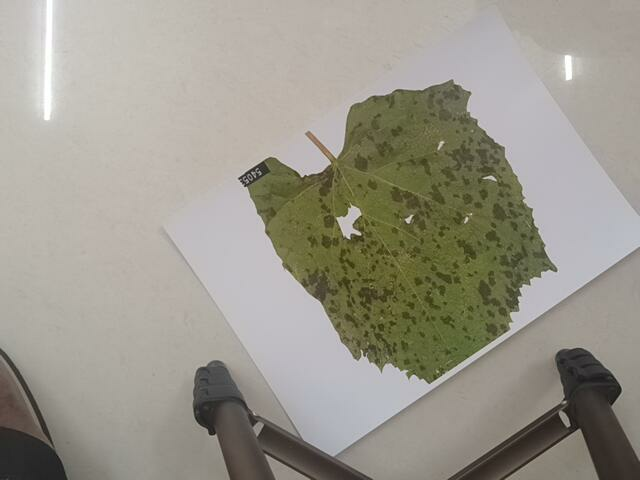Grape_Blight_Leaf: (226, 77, 576, 380)
